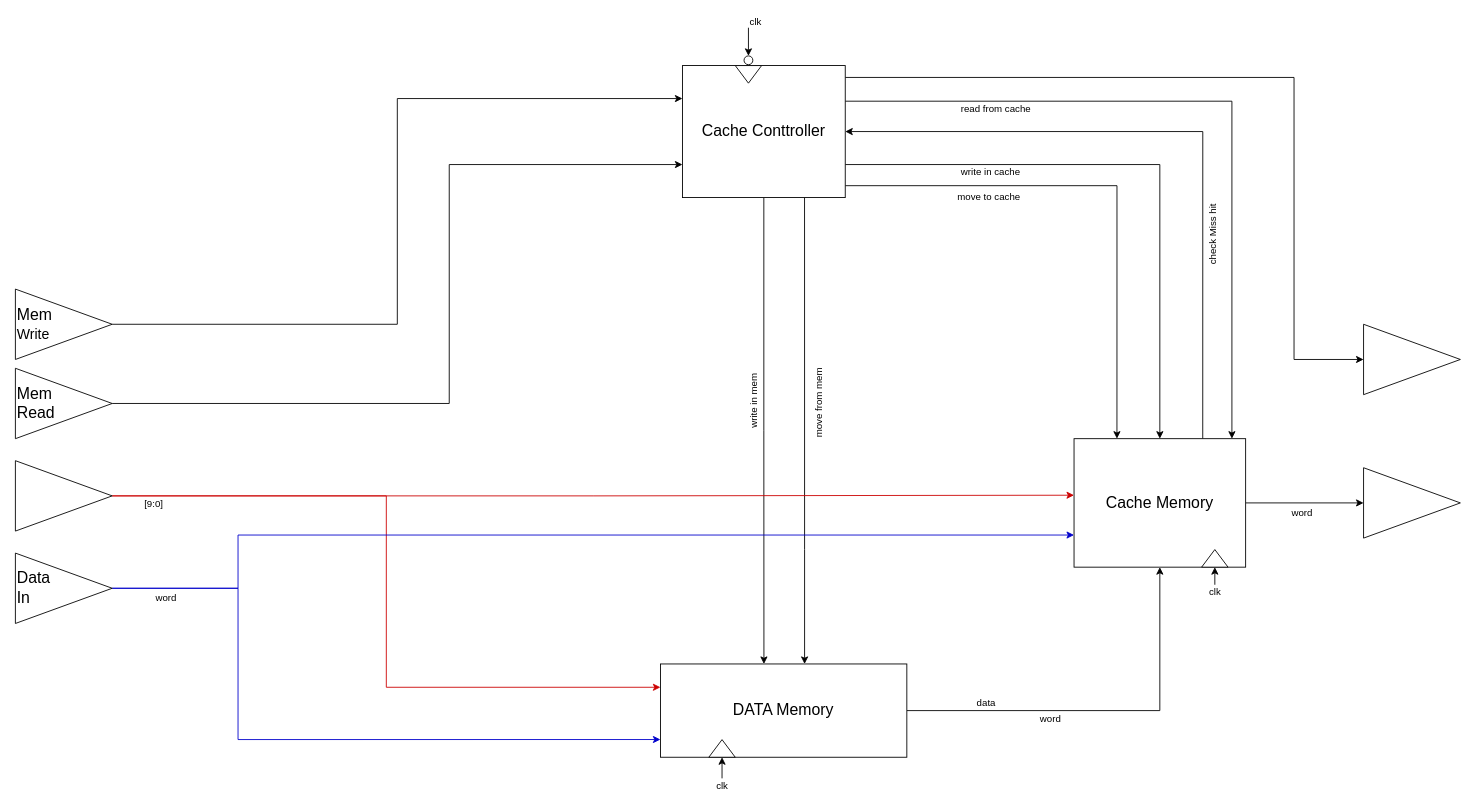
This 1476x806 diagram has some shape labels left out. Each missing label, with the centre of its shape:
"DataOut" belongs at (x=1411, y=502).
"Stall" belongs at (x=1411, y=359).
"Word address" belongs at (x=63, y=495).
